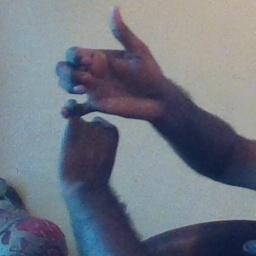S: (53, 4, 165, 174)
